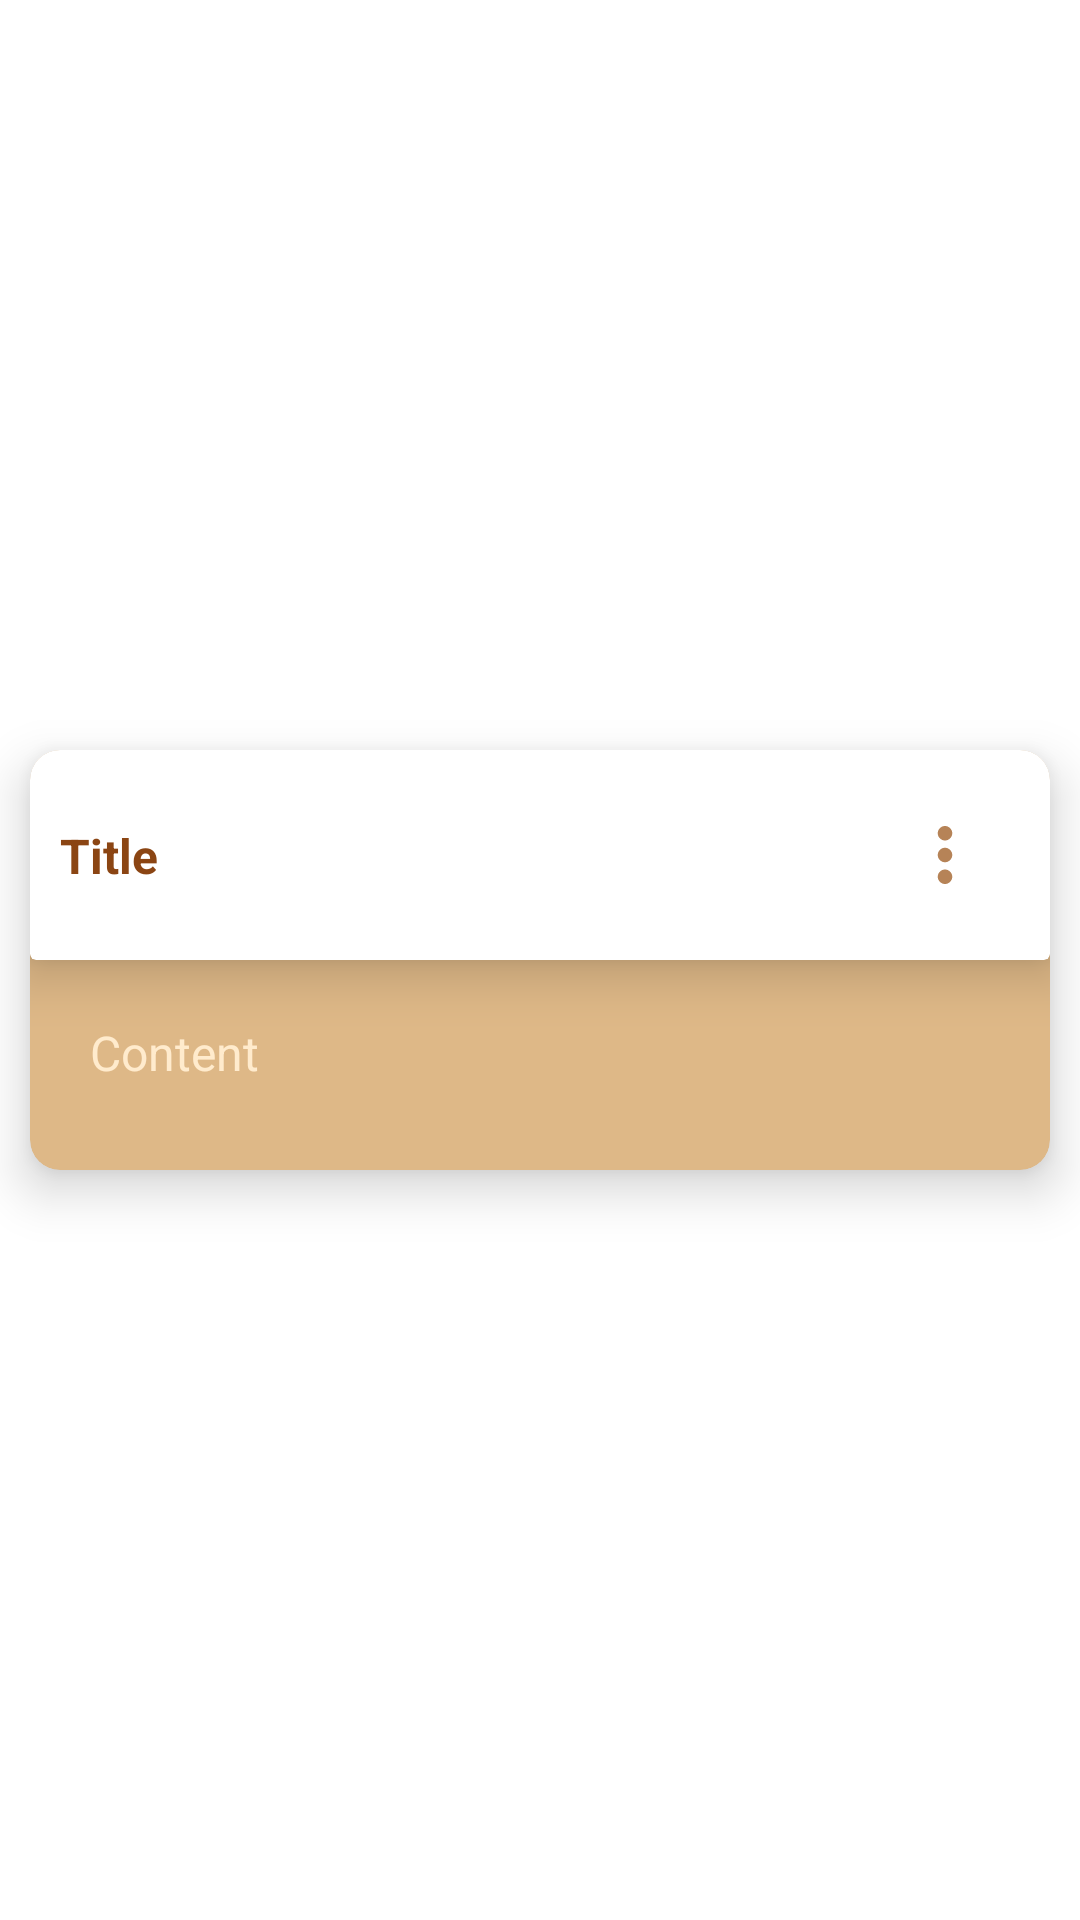

Point at icon controls on the screen. Image size 1080w x 1920h, points as [x,y].
dots: [945,855]
